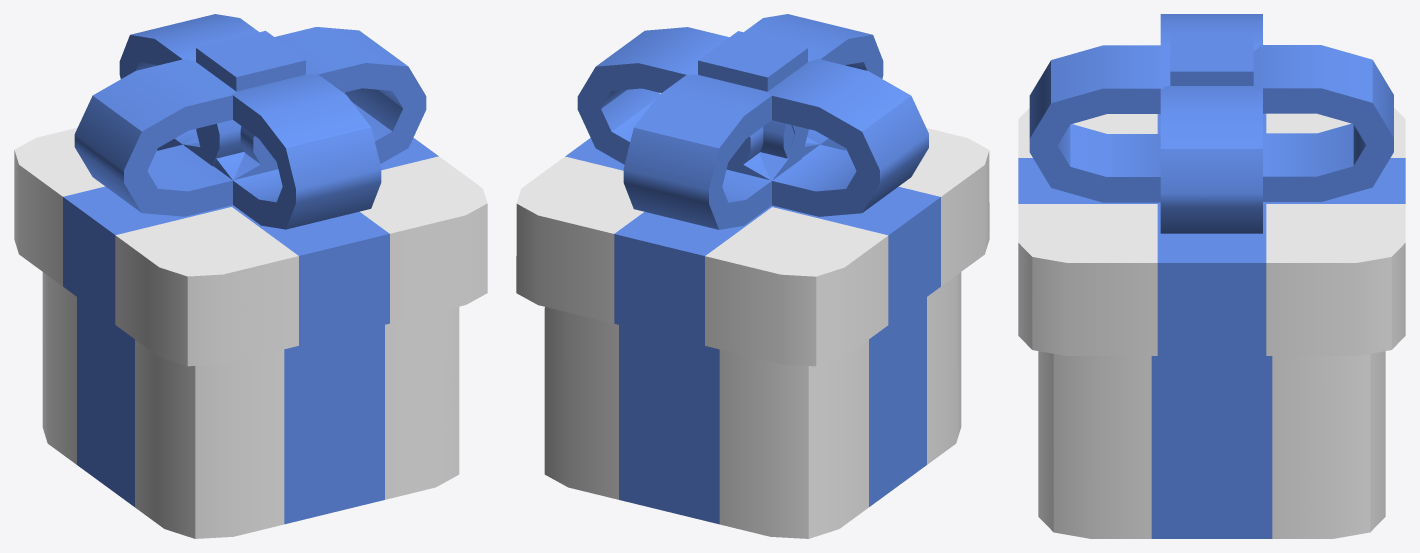
Rendered from Present_B.fbx.
The picture shows the model from 3 angles, left to right: view 1: azimuth 30°, elevation 25°; view 2: azimuth 150°, elevation 25°; view 3: azimuth 270°, elevation 25°; orthographic projection. The views are drawn at different scales.
Parts seen in each view (by area): view 1: Present_B; view 2: Present_B; view 3: Present_B.
Boxes of the visible parts, bbox=[...] form: Present_B: bbox=[14, 14, 487, 538]; Present_B: bbox=[516, 14, 989, 538]; Present_B: bbox=[1018, 14, 1405, 538].
Bounding box in the file's own units: 123 × 145 × 123.
